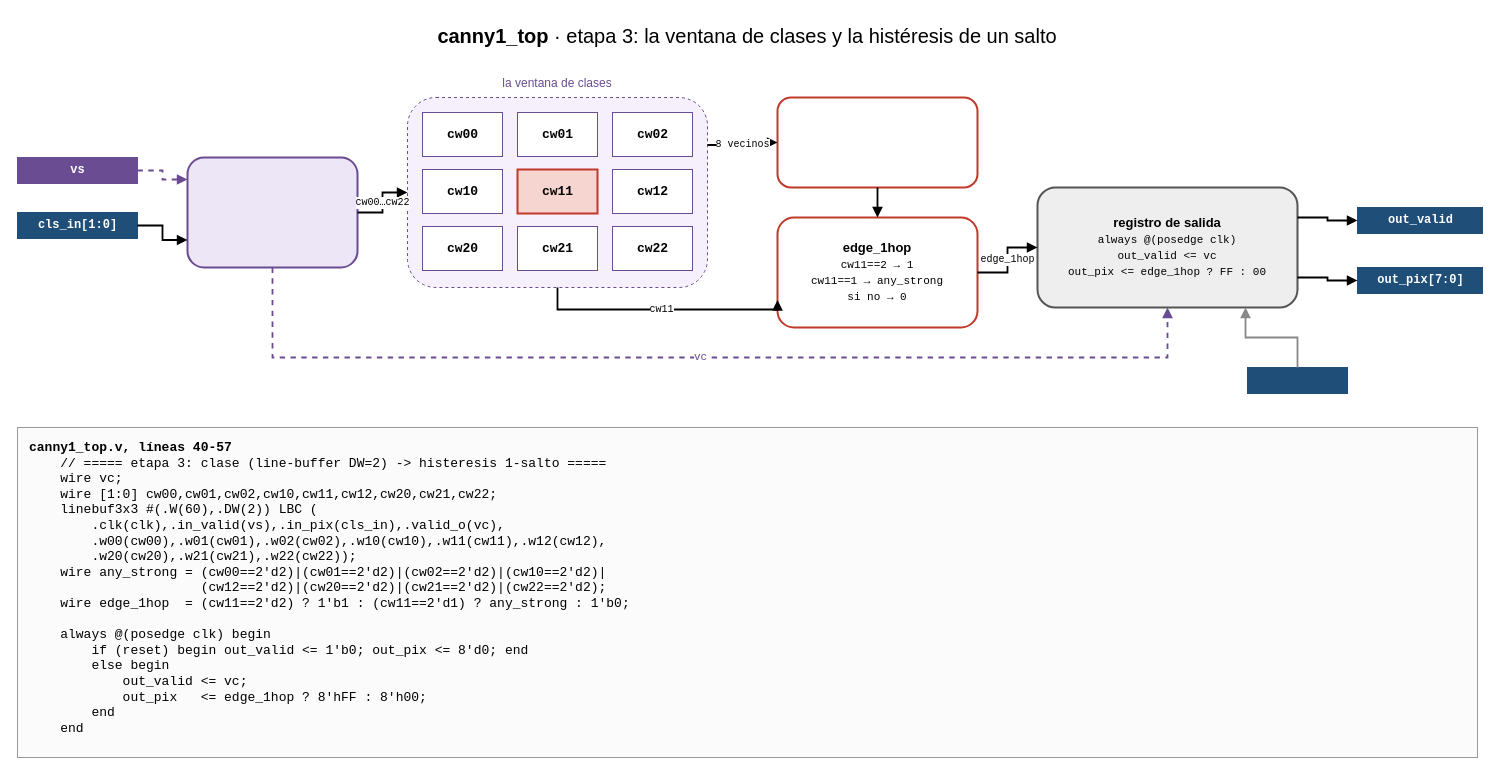
Some shapes in this 1500 by 775 pixel diagram are drawn without their labels. The shapes that lost their labels are listed below. From the top down, each one's centre as x and y in pixels, then its label:
At point (877, 142): "any_strong algún vecino == 2 (fuerte)".
At point (272, 212): "linebuf3x3 LBC W=60 · DW=2 dos bits por píxel".
At point (1297, 380): "reset".
